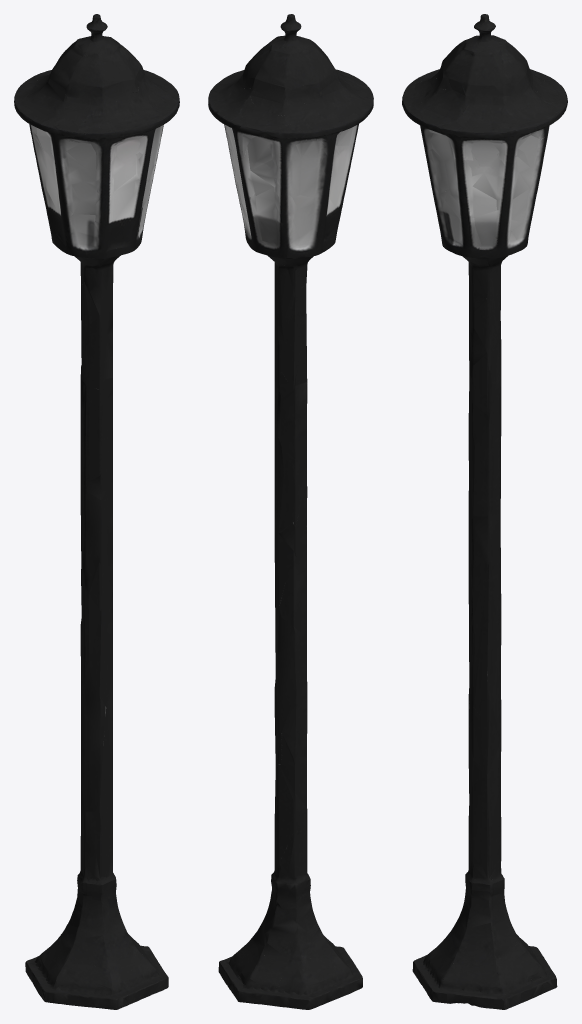
The model's file is A11_LightingObject.fbx.
The picture shows the model from 3 angles, left to right: view 1: azimuth 30°, elevation 25°; view 2: azimuth 150°, elevation 25°; view 3: azimuth 270°, elevation 25°; orthographic projection.
Visible parts, largest first — view 1: LightingObject; view 2: LightingObject; view 3: LightingObject.
Boxes of the visible parts, x1,y1,x2,y2 form: LightingObject: [14, 14, 179, 1009]; LightingObject: [208, 14, 373, 1009]; LightingObject: [402, 14, 567, 1009].
Size of the model in its own units: 234 by 1503 by 234.
Materials: 1 (1 with a texture image).
